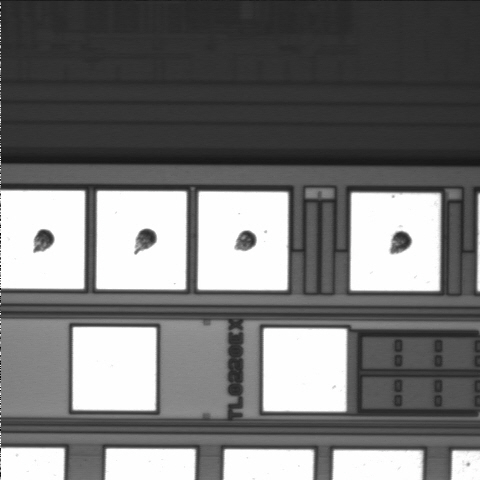pad: (96, 191, 186, 290), (198, 192, 288, 290), (350, 193, 440, 291), (263, 328, 347, 412), (73, 327, 156, 410)
